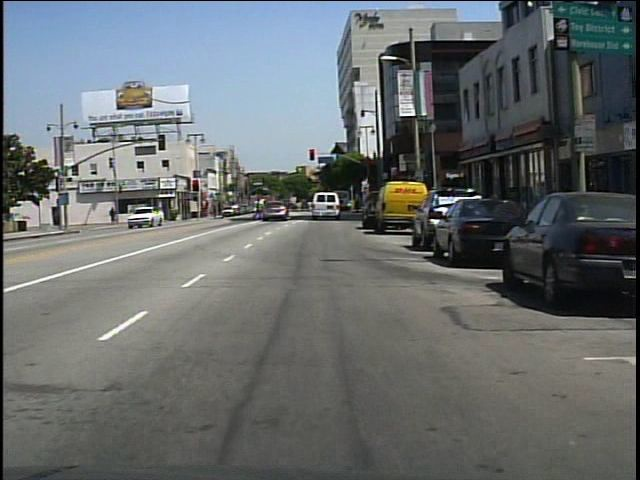person: (249, 193, 266, 222), (108, 206, 117, 225)
